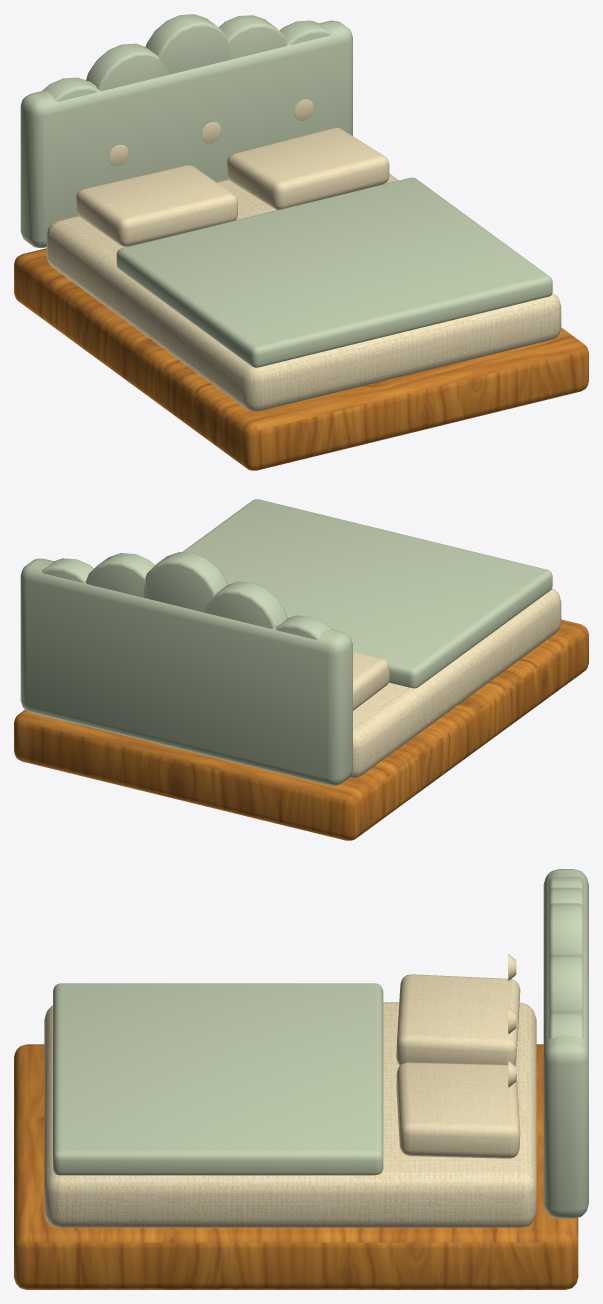
The model's file is arched-bed.glb.
3 renders of one model, top to bottom at view 1: azimuth 30°, elevation 25°; view 2: azimuth 150°, elevation 25°; view 3: azimuth 270°, elevation 25°, orthographic. The views are drawn at different scales.
Visible parts, largest first — view 1: arched-bed; view 2: arched-bed; view 3: arched-bed.
Part boxes in pixels (x1,y1,x2,y2): arched-bed: [14, 14, 588, 470]; arched-bed: [14, 499, 588, 840]; arched-bed: [14, 869, 588, 1289].
Size of the model in its own units: 1.65 by 1.12 by 2.03.
Materials: 3 (2 with a texture image).
